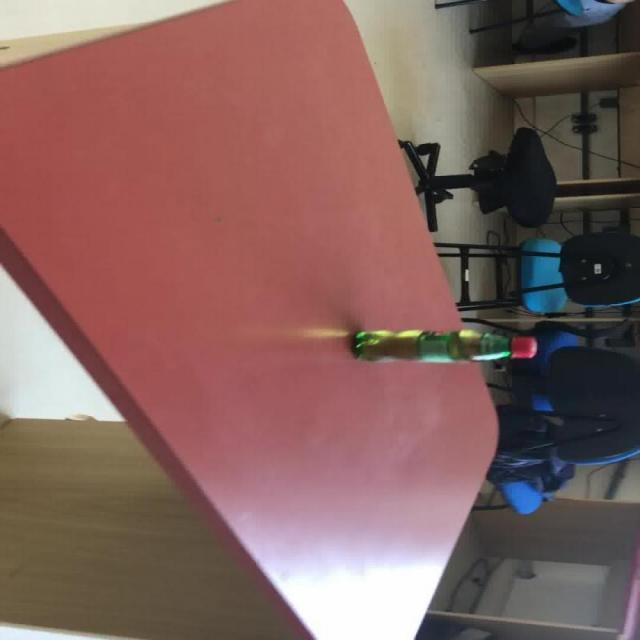Guarana: (349, 327, 538, 363)
